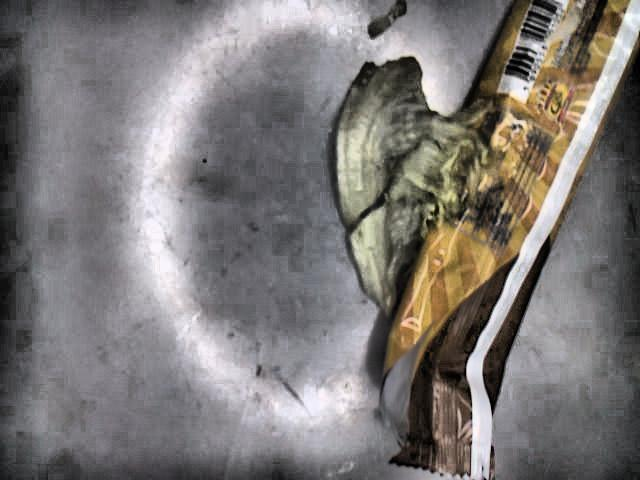Almennt: (330, 54, 487, 317), (363, 1, 410, 35)
Plastic: (381, 0, 640, 480)
